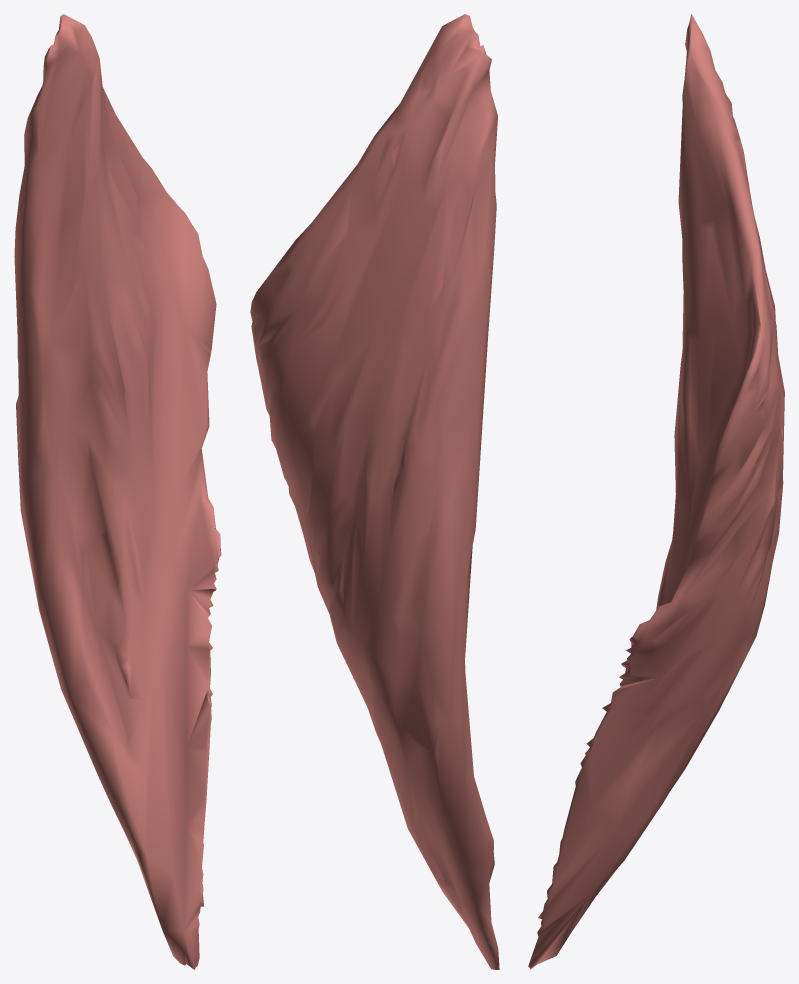
The picture shows the model from 3 angles, left to right: view 1: azimuth 30°, elevation 25°; view 2: azimuth 150°, elevation 25°; view 3: azimuth 270°, elevation 25°; orthographic projection. The views are drawn at different scales.
Visible parts, largest first — view 1: ZA_e5072c12e9855e4e; view 2: ZA_e5072c12e9855e4e; view 3: ZA_e5072c12e9855e4e.
Part boxes in pixels (x1,y1,x2,y2): ZA_e5072c12e9855e4e: (14, 14, 221, 969); ZA_e5072c12e9855e4e: (250, 14, 499, 969); ZA_e5072c12e9855e4e: (528, 14, 784, 969).
Bounding box in the file's own units: 0.0238 × 0.1046 × 0.0262.
